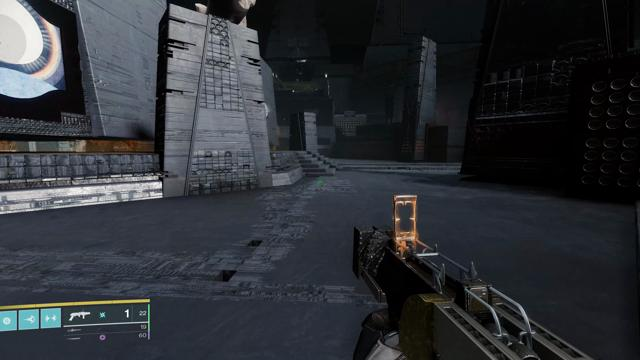traveler: (0, 0, 66, 98)
